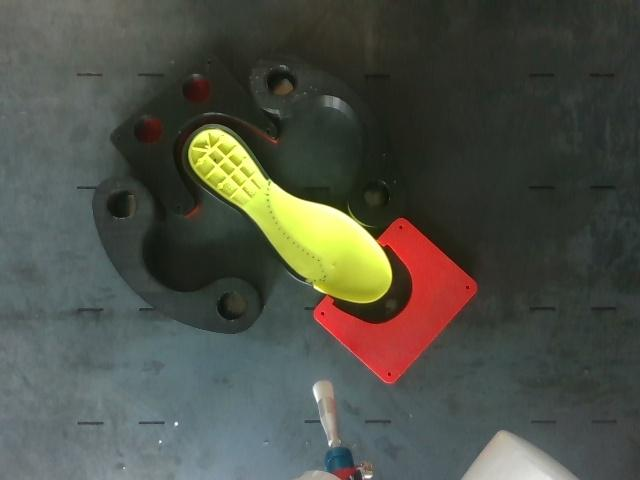shoes: (182, 124, 392, 302)
